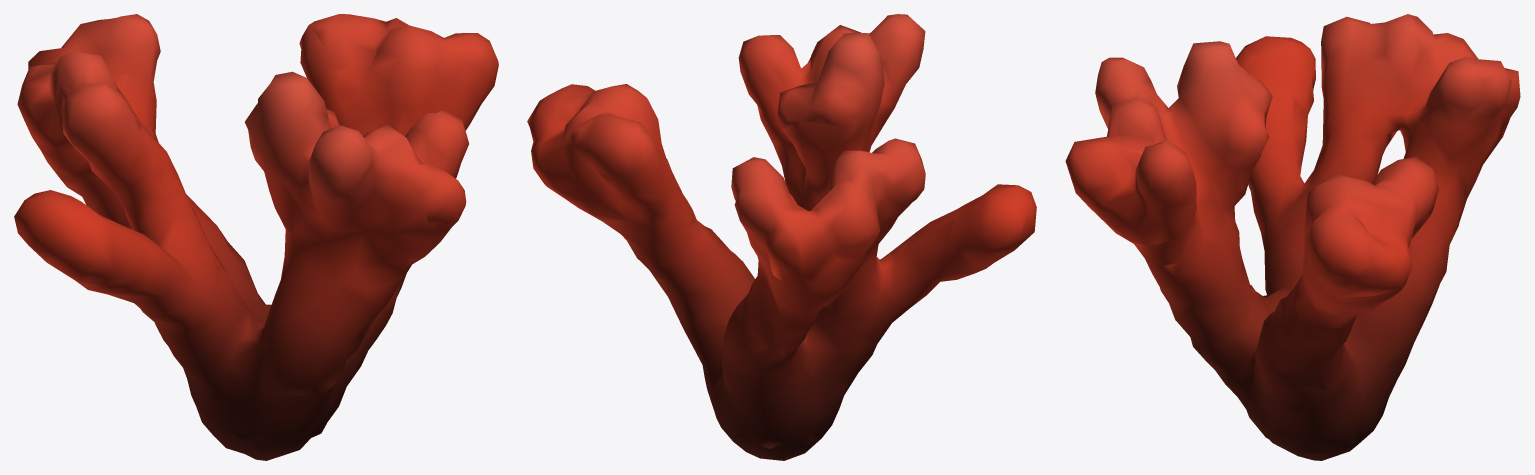
File: Coral_Bush.fbx
3 renders of one model, left to right at view 1: azimuth 30°, elevation 25°; view 2: azimuth 150°, elevation 25°; view 3: azimuth 270°, elevation 25°, orthographic. The views are drawn at different scales.
Visible parts, largest first — view 1: Coral_Bush; view 2: Coral_Bush; view 3: Coral_Bush.
Part boxes in pixels (<box>): Coral_Bush: <box>14,14,498,460</box>; Coral_Bush: <box>527,14,1036,460</box>; Coral_Bush: <box>1065,14,1520,460</box>.
Bounding box in the file's own units: 1.13 × 0.8876 × 0.93.
Materials: 1 (1 with a texture image).
